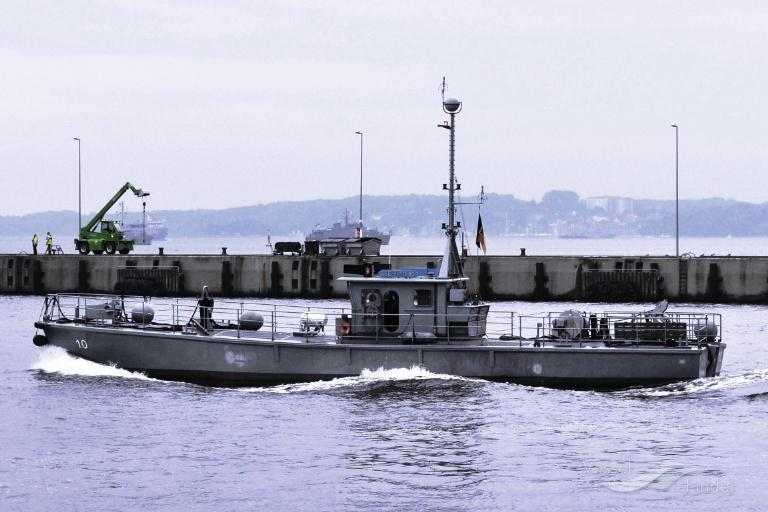OCR: (75, 332, 90, 355)
